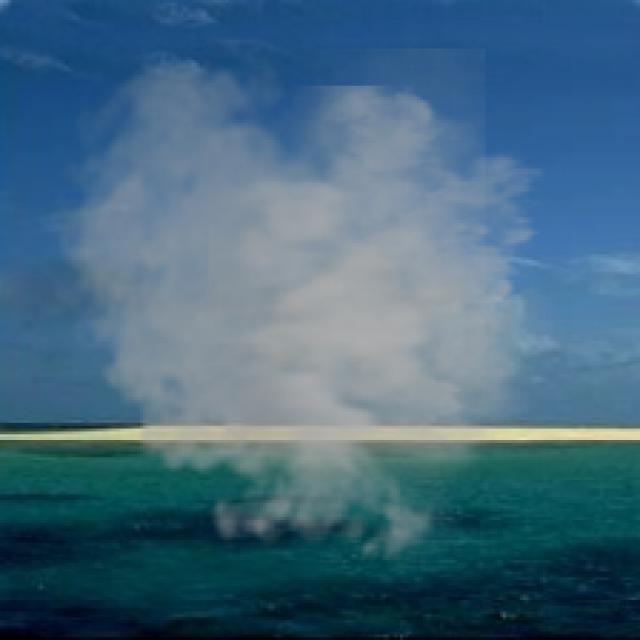Smoke: (40, 49, 580, 578)
